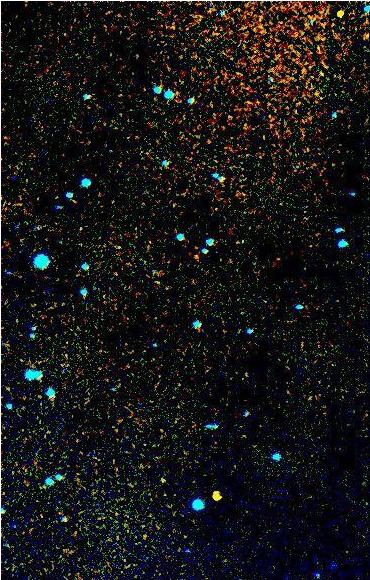star: (203, 472, 233, 502)
